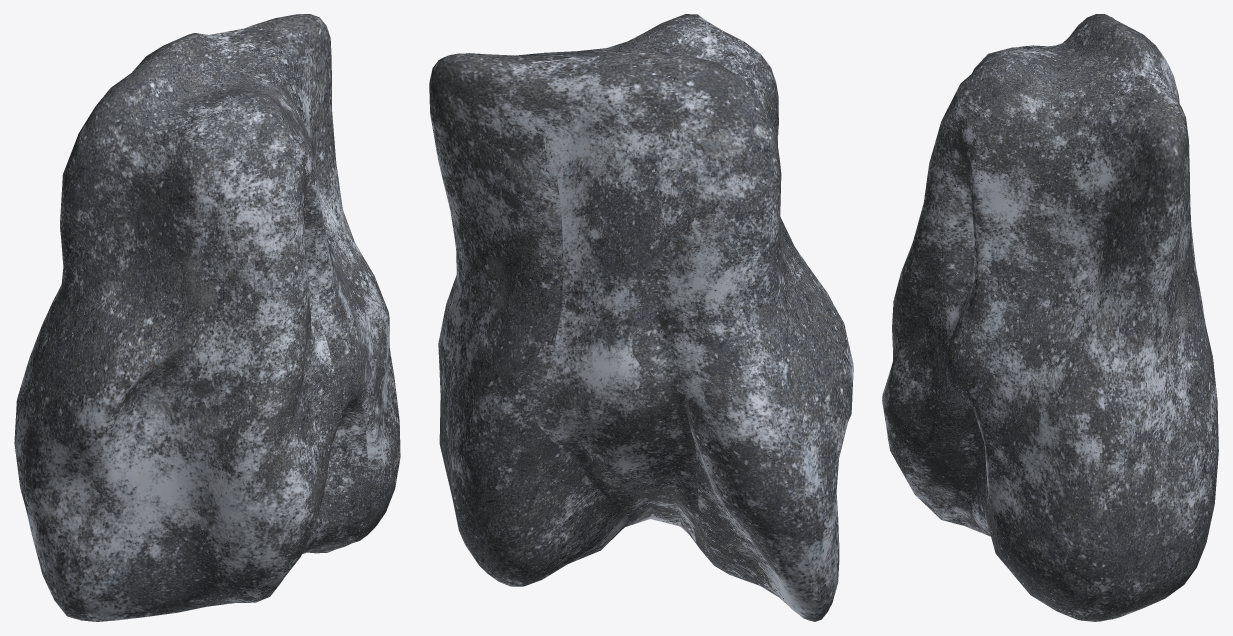
The model's file is Arctic_Cliff_SM.fbx.
3 renders of one model, left to right at view 1: azimuth 30°, elevation 25°; view 2: azimuth 150°, elevation 25°; view 3: azimuth 270°, elevation 25°, orthographic. The views are drawn at different scales.
Visible parts, largest first — view 1: Arctic_Cliff_SM; view 2: Arctic_Cliff_SM; view 3: Arctic_Cliff_SM.
Part boxes in pixels (left/top/right/bottom): Arctic_Cliff_SM: left=14, top=14, right=400, bottom=621; Arctic_Cliff_SM: left=429, top=14, right=853, bottom=621; Arctic_Cliff_SM: left=882, top=14, right=1218, bottom=621.
Bounding box in the file's own units: 685 × 950 × 551.
